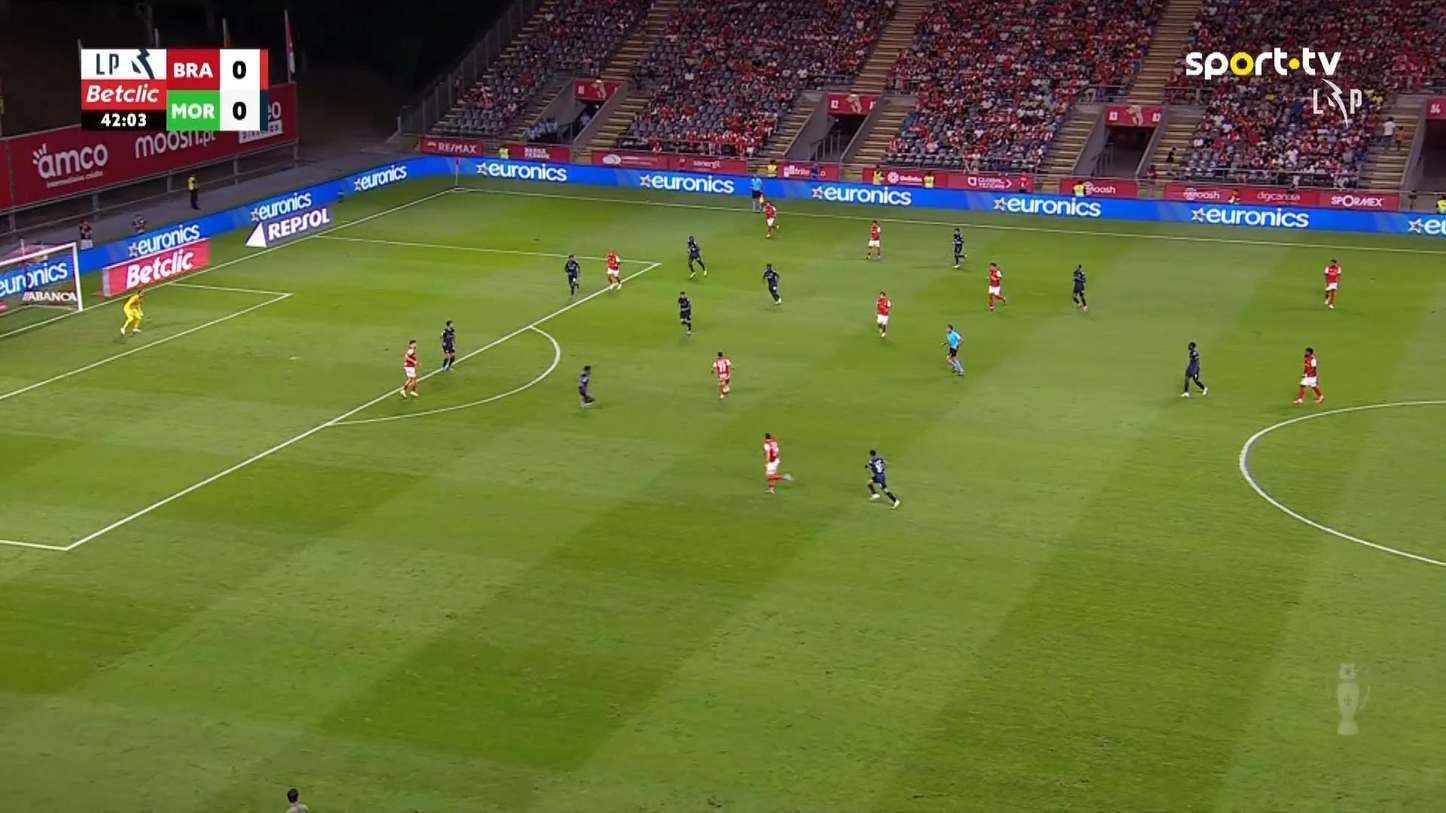goalkeeper: (119, 288, 145, 336)
player: (864, 448, 900, 509), (1293, 346, 1323, 403), (1180, 340, 1207, 397), (761, 432, 783, 493), (710, 350, 734, 399), (400, 339, 419, 398), (986, 261, 1007, 311), (1322, 257, 1341, 309), (685, 234, 706, 279), (439, 319, 456, 371), (1070, 263, 1088, 312), (762, 262, 782, 304), (563, 253, 581, 297), (874, 291, 891, 337), (676, 290, 692, 336), (577, 364, 594, 407), (950, 227, 967, 269), (865, 219, 882, 260), (605, 250, 622, 291), (761, 199, 778, 238), (285, 787, 309, 811)
referee: (940, 323, 964, 376), (749, 173, 763, 212)
